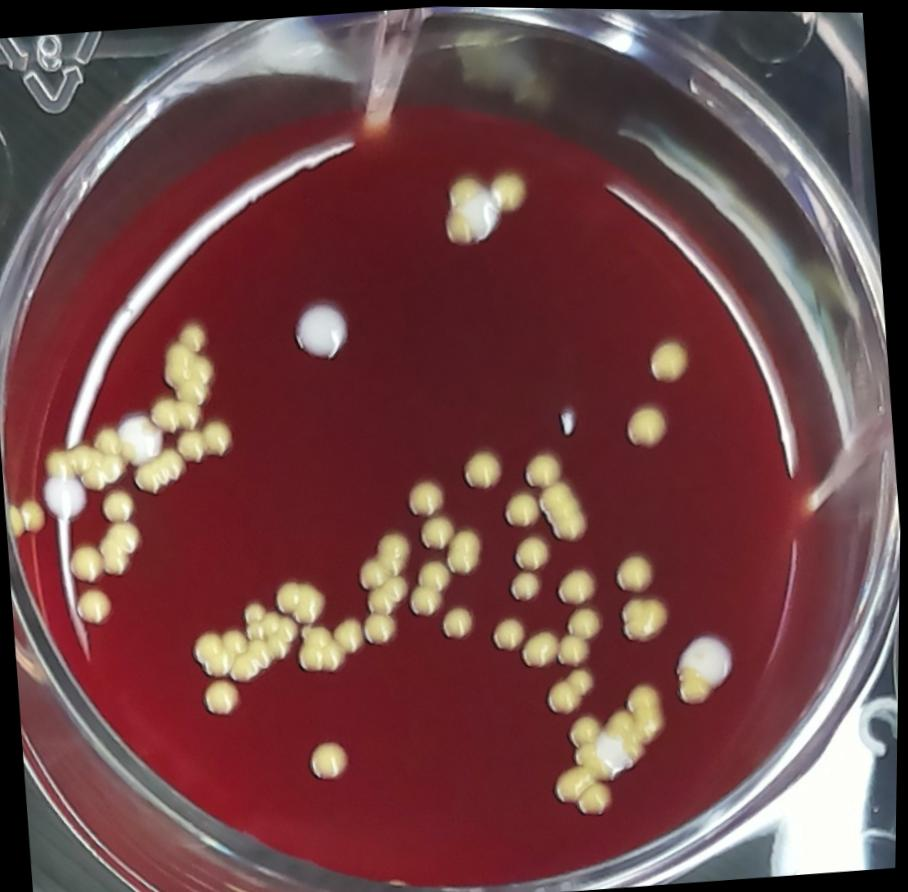staphylo-: (190, 620, 279, 689), (43, 423, 129, 494), (352, 526, 418, 614), (608, 679, 671, 755), (238, 594, 304, 666), (161, 338, 223, 411), (552, 759, 616, 822), (536, 477, 595, 545), (618, 397, 677, 456), (542, 660, 601, 719), (638, 330, 696, 389), (616, 589, 676, 646), (94, 520, 147, 583), (272, 575, 336, 627), (406, 558, 459, 619), (145, 388, 206, 439), (296, 620, 350, 676), (131, 447, 192, 496), (175, 421, 237, 465), (306, 733, 357, 785), (72, 583, 122, 635), (609, 545, 659, 595), (459, 445, 510, 494), (554, 561, 602, 610), (670, 662, 718, 709), (404, 471, 449, 518), (488, 167, 533, 213), (447, 525, 488, 575), (518, 628, 564, 672), (440, 169, 488, 211), (66, 540, 111, 584), (522, 447, 569, 489), (96, 484, 141, 526), (199, 677, 247, 716), (554, 629, 597, 672), (501, 489, 543, 532), (565, 601, 608, 642), (488, 612, 529, 654), (440, 602, 481, 643), (330, 614, 369, 656), (361, 609, 402, 648), (440, 205, 477, 248), (419, 511, 457, 550), (174, 316, 212, 354), (509, 567, 548, 604), (567, 710, 606, 746), (513, 535, 553, 570)
